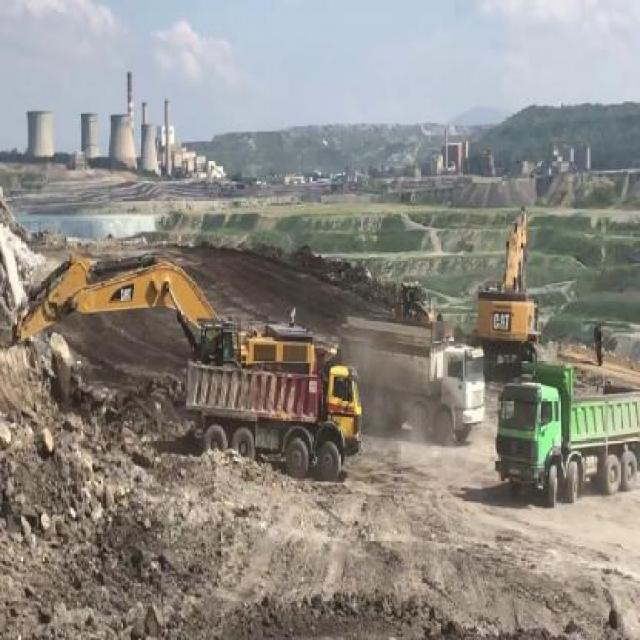Dump Truck: (494, 365, 638, 506), (192, 364, 363, 479), (350, 316, 485, 447)
Excavator: (5, 252, 329, 365), (475, 205, 542, 367)
